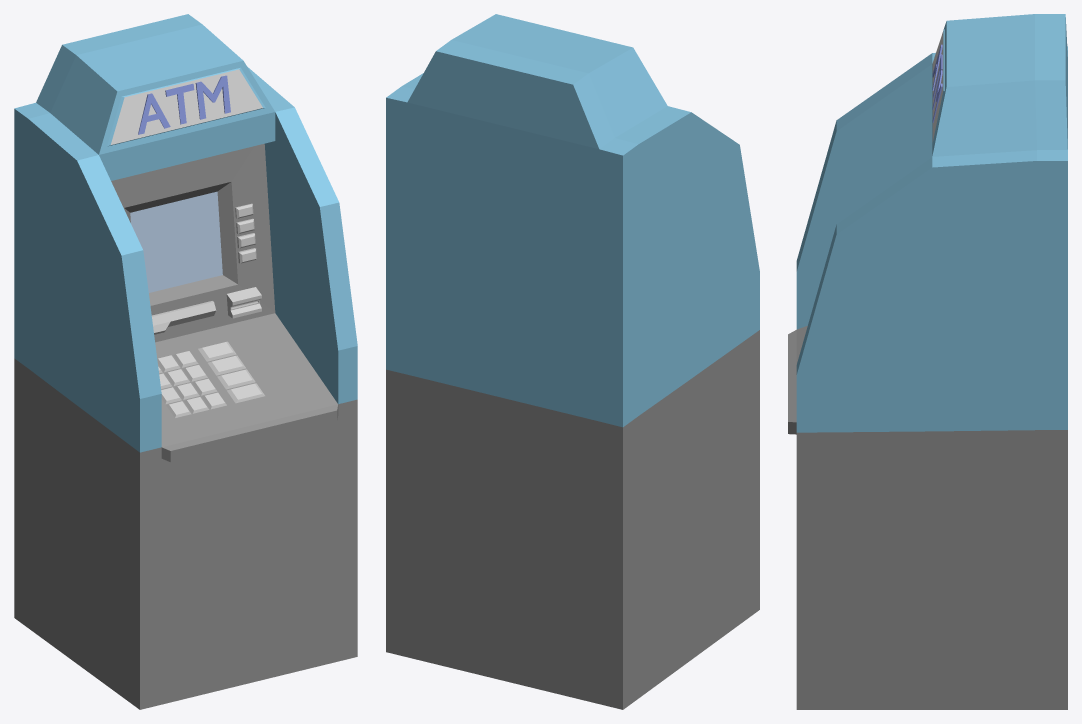
File: atm.glb
3 renders of one model, left to right at view 1: azimuth 30°, elevation 25°; view 2: azimuth 150°, elevation 25°; view 3: azimuth 270°, elevation 25°, orthographic. The views are drawn at different scales.
Parts seen in each view (by area): view 1: ATM; view 2: ATM; view 3: ATM.
Part boxes in pixels (left/top/right/bottom): ATM: left=14, top=14, right=357, bottom=709; ATM: left=386, top=14, right=759, bottom=709; ATM: left=788, top=14, right=1067, bottom=709.
Size of the model in its own units: 0.2217 by 0.5469 by 0.2288.
